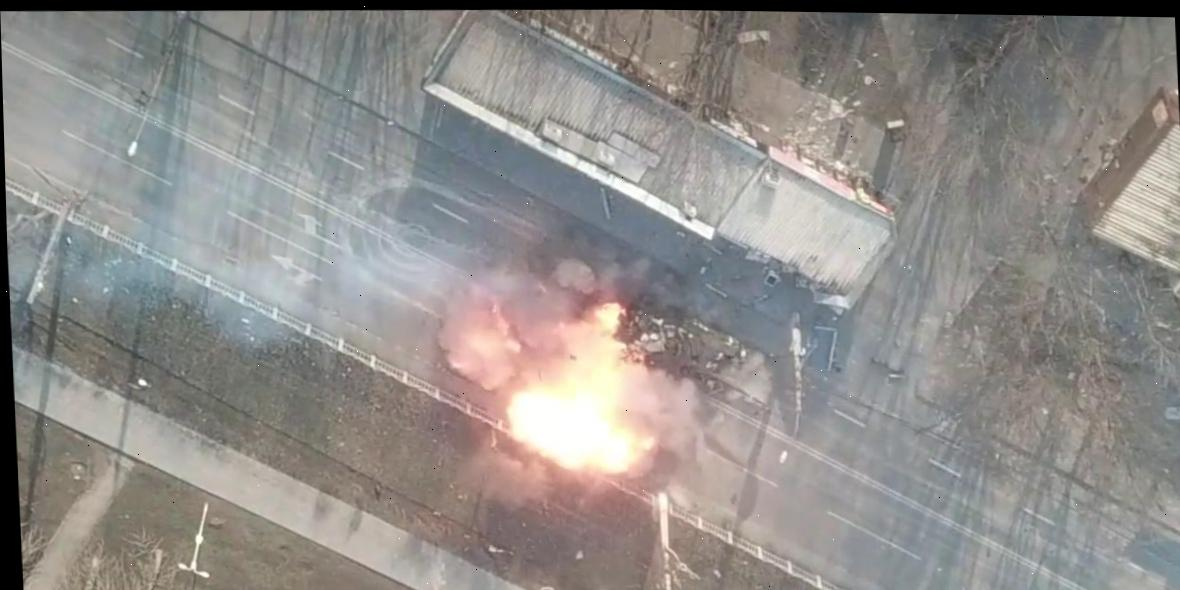tank: (607, 293, 772, 414)
